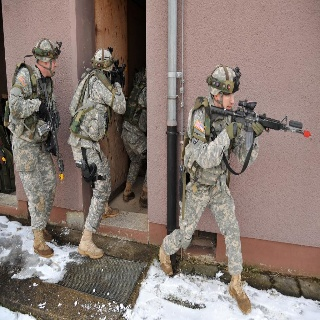rifle: (208, 97, 311, 151), (35, 76, 67, 183), (102, 56, 129, 91)
